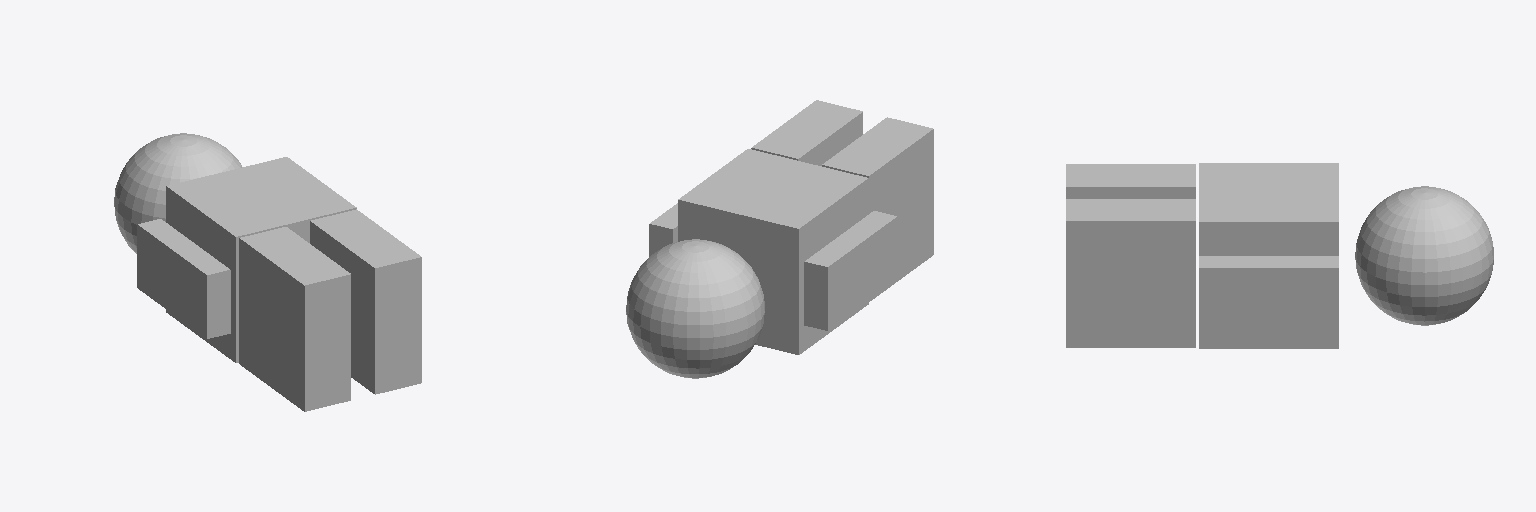
The model's file is sporty_robot_animation_000004.obj.
3 views of the same model, side by side, from view 1: azimuth 30°, elevation 25°; view 2: azimuth 150°, elevation 25°; view 3: azimuth 270°, elevation 25° (orthographic).
Parts seen in each view (by area): view 1: Cube.002, Cube.001_Cube.005, Cube, Cube.004, Sphere.001; view 2: Cube, Sphere.001, Cube.002, Cube.004, Cube.001_Cube.005, Cube.003; view 3: Cube.001_Cube.005, Cube, Sphere.001, Cube.003, Cube.002.
Boxes of the visible parts, box(x1,y1,x2,y2) form: Cube.002: box(239, 227, 350, 411); Cube.001_Cube.005: box(310, 209, 421, 394); Cube: box(166, 157, 356, 362); Cube.004: box(137, 219, 230, 338); Sphere.001: box(114, 133, 241, 253); Cube: box(678, 149, 868, 354); Sphere.001: box(626, 239, 764, 378); Cube.002: box(822, 117, 933, 301); Cube.004: box(804, 211, 897, 330); Cube.001_Cube.005: box(751, 100, 862, 165); Cube.003: box(649, 203, 677, 256); Cube.001_Cube.005: box(1066, 199, 1195, 347); Cube: box(1199, 163, 1338, 348); Sphere.001: box(1355, 186, 1493, 325); Cube.003: box(1199, 256, 1338, 331); Cube.002: box(1066, 164, 1195, 198).
Size of the model in its own units: 0.76 by 0.514 by 1.58.